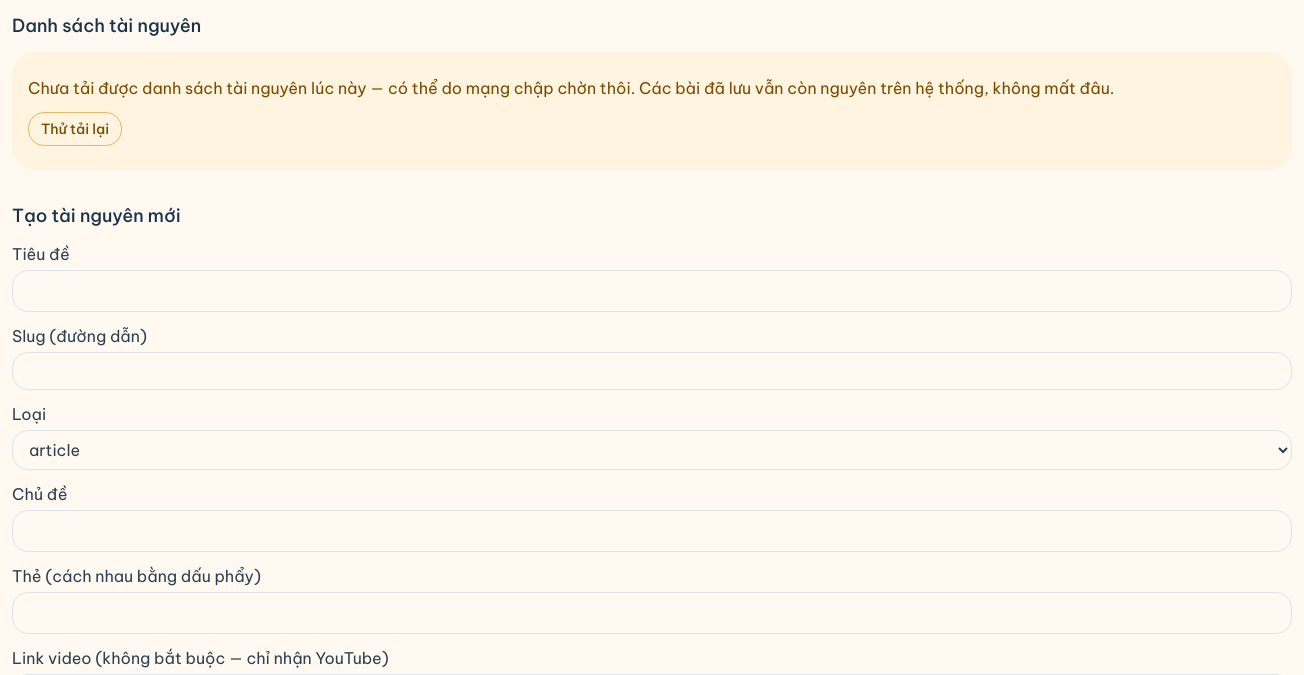
Scenario: ResourceEditor › bấm thử tải lại sau khi lỗi thì tải lại thành công
Expected: the text "Chưa tải được danh sách tài nguyên" is shown, [28,78,1114,98]
Click the button "Thử tải lại" at (75, 129), box [28,112,122,146]
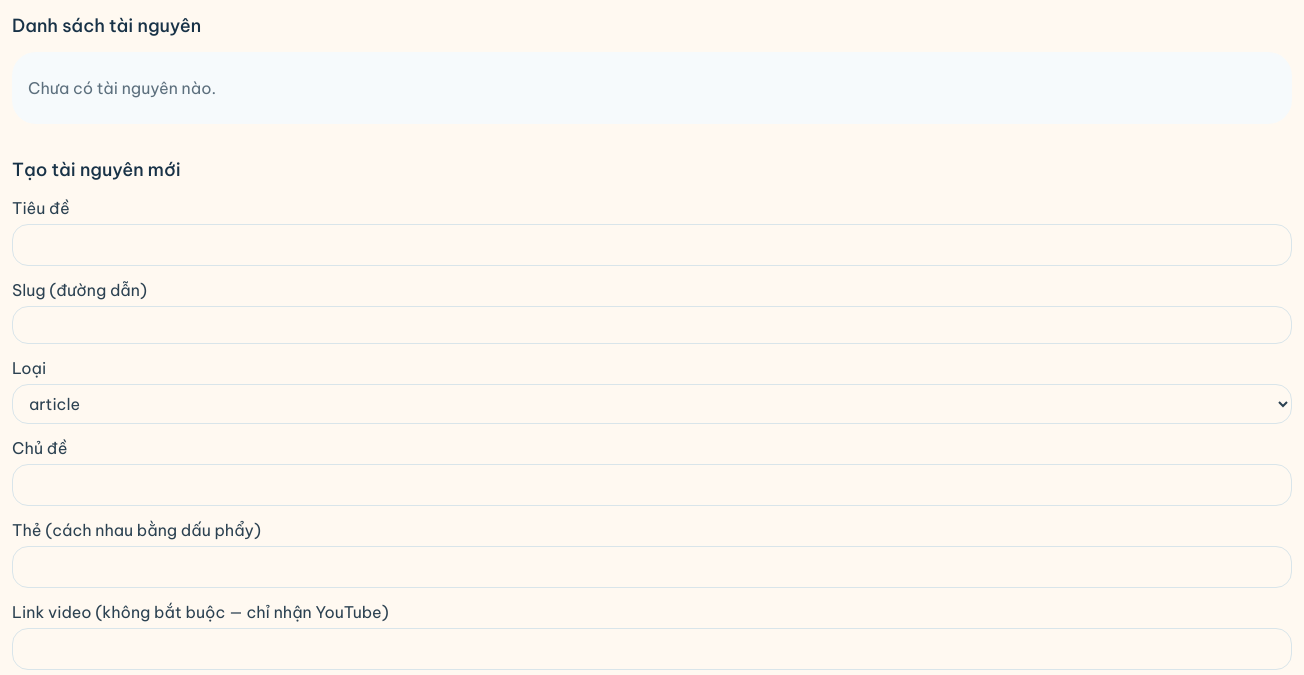
Expected: the text "Chưa có tài nguyên nào." is shown, [12,52,1292,124]
